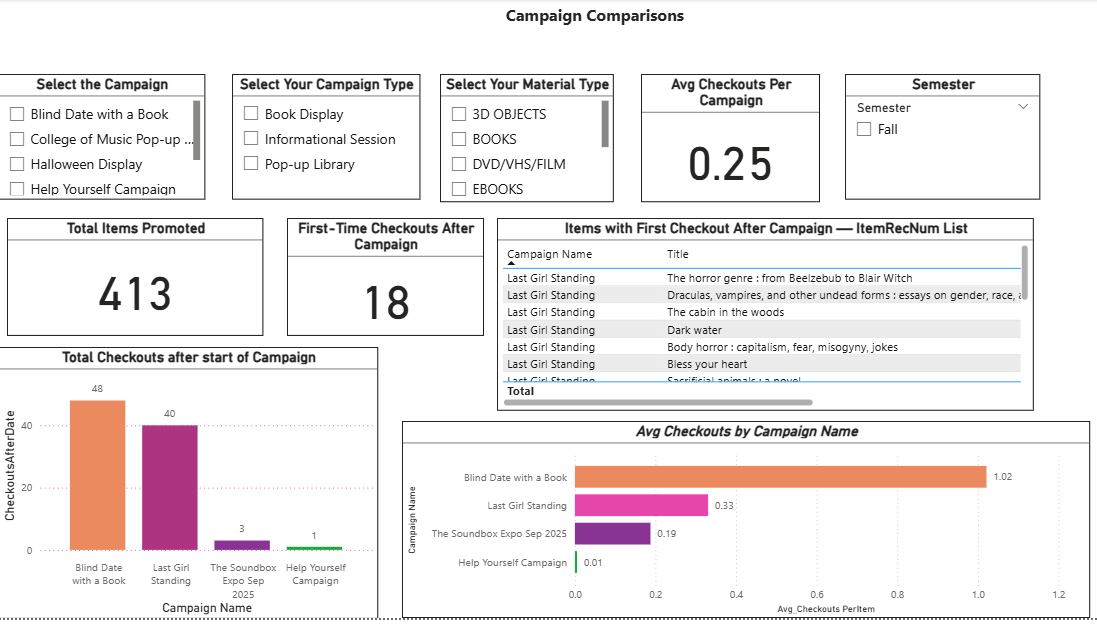

This screenshot's page, from the dashboard's own definition file:
{"tool":"powerbi","page":{"name":"CAMPIAGN COMPARISONS","canvas":[1280,720],"ordinal":3},"visuals":[{"type":"clusteredColumnChart","title":"Total Checkouts after start of Campaign","fields":{"Y":["H.vItemCheckoutsWithRecords.CheckoutsAfterDate"],"Category":["MergedPromoRecords.Campaign Name"]},"box":[0,404.4,442.4,315.9],"z":0},{"type":"slicer","title":"Select Your Material Type","fields":{"Values":["MergedPromoRecords.MatType"]},"box":[514.4,87.7,202.2,148.7],"z":1000},{"type":"card","title":"Total Items Promoted","fields":{"Values":["MergedPromoRecords.Total_Resources Promoted"]},"box":[10.3,254.1,298.4,136.8],"z":2000},{"type":"clusteredBarChart","title":"Avg Checkouts by Campaign Name","fields":{"Category":["MergedPromoRecords.Campaign Name"],"Y":["MergedPromoRecords.Avg_Checkouts_Per_Item_3Months_AfterStart"]},"box":[469.8,490.6,799.8,228.9],"z":3000},{"type":"slicer","title":"Select the Campaign","fields":{"Values":["MergedPromoRecords.Campaign Name"]},"box":[0,87.7,240.8,145.7],"z":4000},{"type":"card","title":"First-Time Checkouts After Campaign","fields":{"Values":["MergedPromoRecords.New_Items_CheckedOut_After_Campaign"]},"box":[336,254.2,228.9,136.8],"z":5000},{"type":"card","title":"Avg Checkouts Per Campaign","fields":{"Values":["MergedPromoRecords.Avg_Checkouts_Per_Item_3Months_AfterStart"]},"box":[747.8,87.7,208.1,148.7],"z":6000},{"type":"slicer","title":"Select Your Campaign Type","fields":{"Values":["MergedPromoRecords.Campaign Type"]},"box":[272.1,87.7,218.5,145.7],"z":7000},{"type":"textbox","box":[442.5,0,502,47.6],"z":8000},{"type":"tableEx","title":"Items with First Checkout After Campaign — ItemRecNum List","fields":{"Values":["MergedPromoRecords.Campaign Name","MergedPromoRecords.Title","MergedPromoRecords.New_Items_CheckedOut_After_Campaign","MergedPromoRecords.ItemRecNum"]},"box":[580.1,254.6,624.3,224.4],"z":9000},{"type":"slicer","title":"Semester","fields":{"Values":["MergedPromoRecords.Semester"]},"box":[984.2,87.7,227.5,145.7],"z":10000}]}

Visuals, with their boxes in screenshot pixels (x1, y1, x2, y2), scaled from the page's 1280x720 canvas onto the 1097x626 screenshot:
"Total Checkouts after start of Campaign" clusteredColumnChart: <region>0, 352, 379, 625</region>
"Select Your Material Type" slicer: <region>441, 76, 614, 206</region>
"Total Items Promoted" card: <region>9, 221, 265, 340</region>
"Avg Checkouts by Campaign Name" clusteredBarChart: <region>403, 427, 1088, 625</region>
"Select the Campaign" slicer: <region>0, 76, 206, 203</region>
"First-Time Checkouts After Campaign" card: <region>288, 221, 484, 340</region>
"Avg Checkouts Per Campaign" card: <region>641, 76, 819, 206</region>
"Select Your Campaign Type" slicer: <region>233, 76, 420, 203</region>
textbox: <region>379, 0, 809, 41</region>
"Items with First Checkout After Campaign — ItemRecNum List" tableEx: <region>497, 221, 1032, 416</region>
"Semester" slicer: <region>843, 76, 1038, 203</region>
